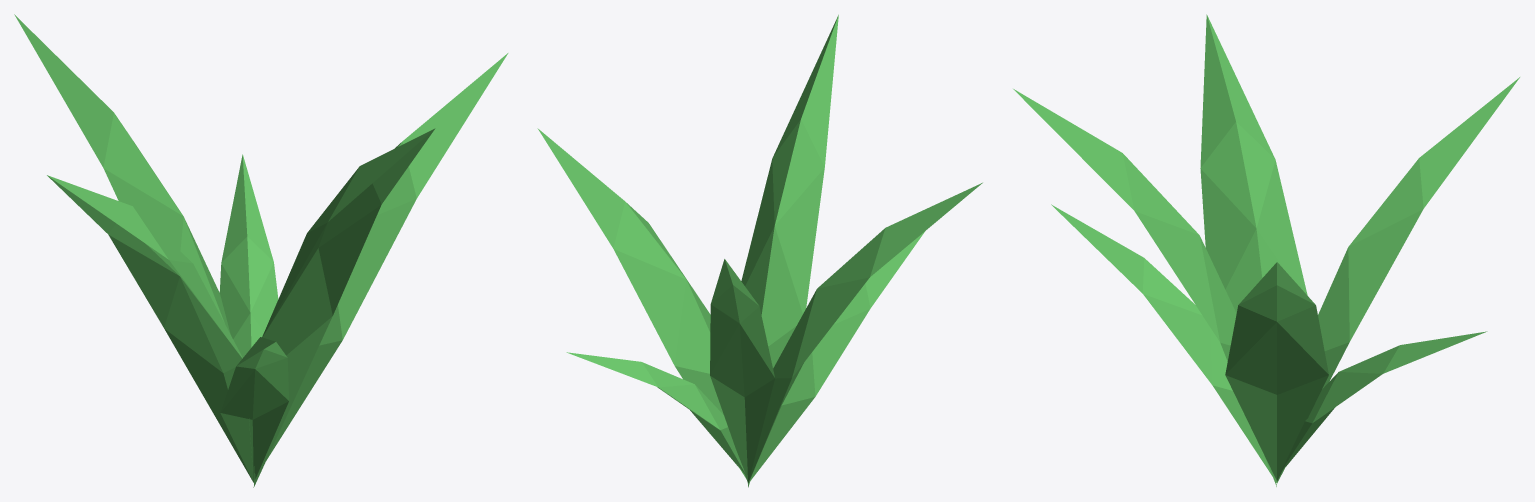
The model's file is Hilly_Prop_Grass_Clump_4.glb.
3 renders of one model, left to right at view 1: azimuth 30°, elevation 25°; view 2: azimuth 150°, elevation 25°; view 3: azimuth 270°, elevation 25°, orthographic. The views are drawn at different scales.
Parts seen in each view (by area): view 1: Hilly_Prop_Grass_Clump_4; view 2: Hilly_Prop_Grass_Clump_4; view 3: Hilly_Prop_Grass_Clump_4.
Boxes of the visible parts, box(x1,y1,x2,y2) form: Hilly_Prop_Grass_Clump_4: box(14, 14, 508, 487); Hilly_Prop_Grass_Clump_4: box(537, 14, 982, 487); Hilly_Prop_Grass_Clump_4: box(1013, 14, 1519, 486).
Size of the model in its own units: 0.1643 by 0.1434 by 0.1589.
